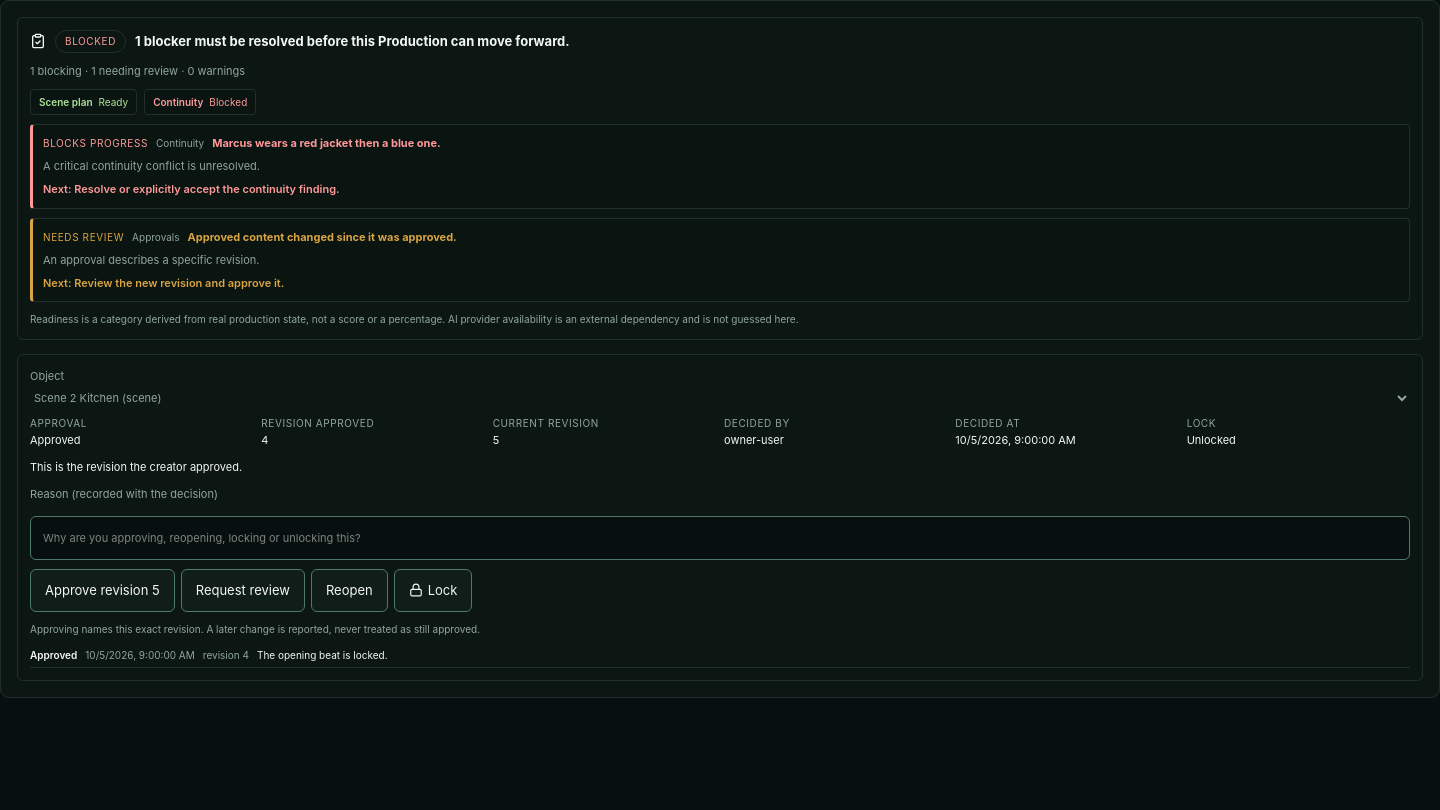
Test: approval state › surfaces a refusal as an alert instead of pretending it worked
Click the button "Approve revision 5" at (102, 590), box top-left (30, 569), bottom-right (175, 612)
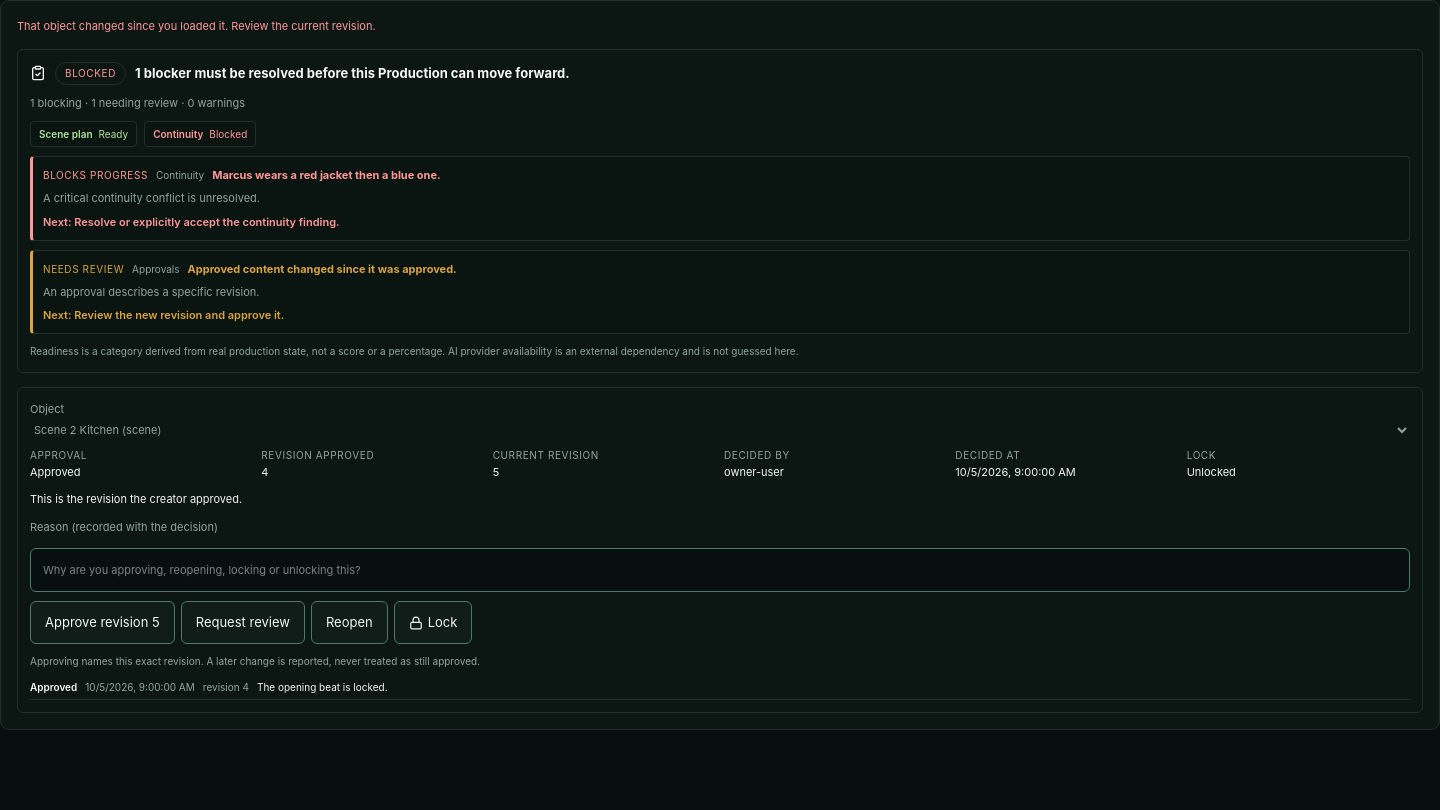
expect the message "That object changed since you loaded it. Review the current revision." is shown: met, box top-left (17, 19), bottom-right (376, 33)
